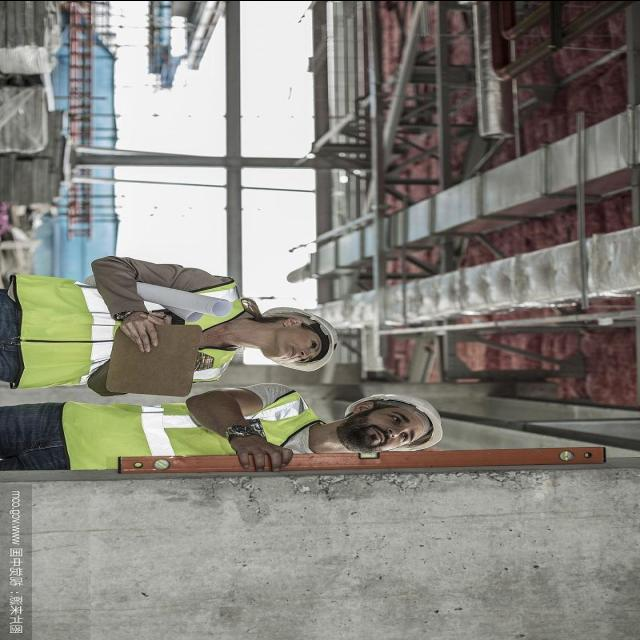helmet: (2, 258, 254, 394), (354, 388, 449, 452)
jacket: (276, 306, 341, 376)
